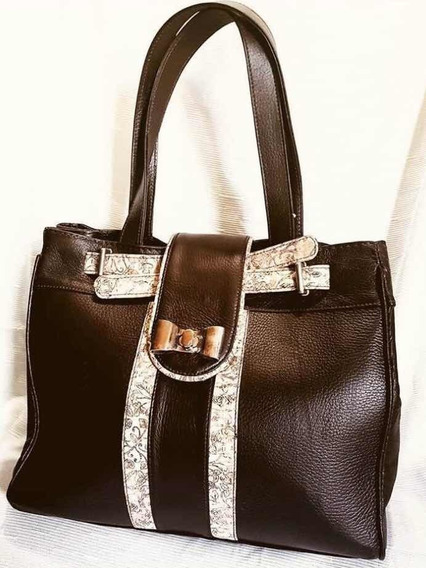cartera: (5, 1, 405, 563)
